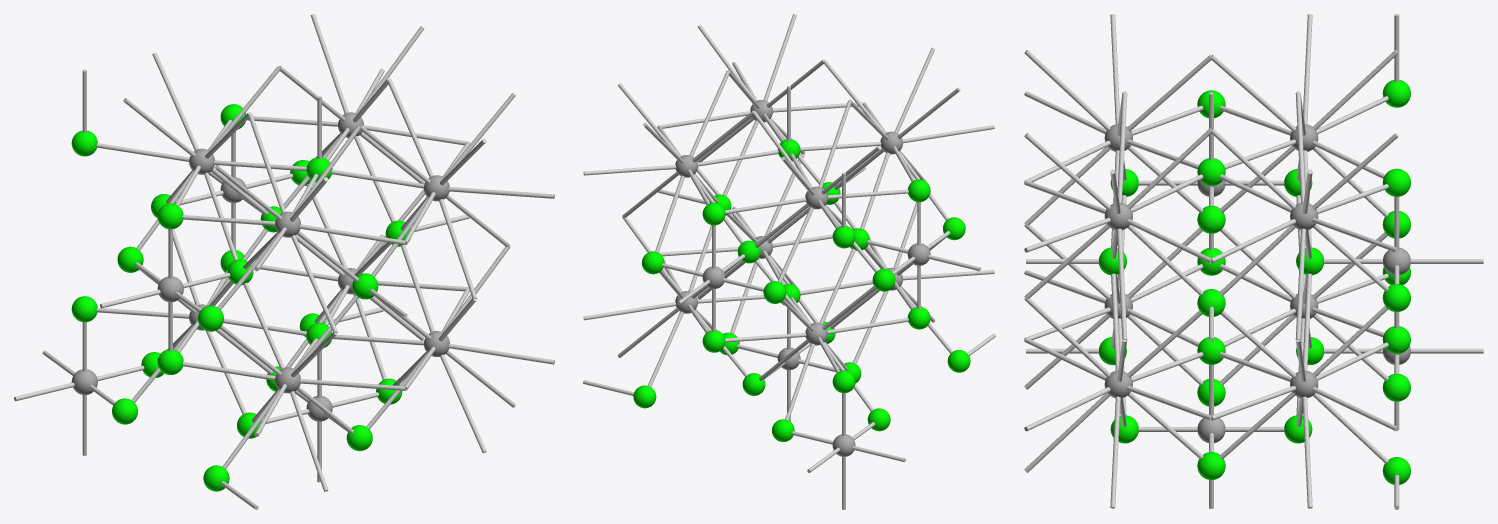
The model's file is structure_mpstyle.glb.
The picture shows the model from 3 angles, left to right: view 1: azimuth 30°, elevation 25°; view 2: azimuth 150°, elevation 25°; view 3: azimuth 270°, elevation 25°; orthographic projection. The views are drawn at different scales.
Parts seen in each view (by area): view 1: world; view 2: world; view 3: world.
Part boxes in pixels (box(x1,y1,x2,y2)): world: box(14, 14, 554, 509); world: box(583, 14, 995, 509); world: box(1024, 14, 1483, 509).
Bounding box in the file's own units: 13 × 13 × 13.
